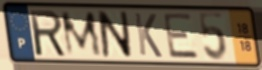5: (197, 10, 229, 63)
E: (161, 12, 202, 61)
K: (132, 11, 164, 60)
M: (58, 10, 105, 58)
N: (96, 9, 134, 60)
R: (27, 8, 68, 59)
